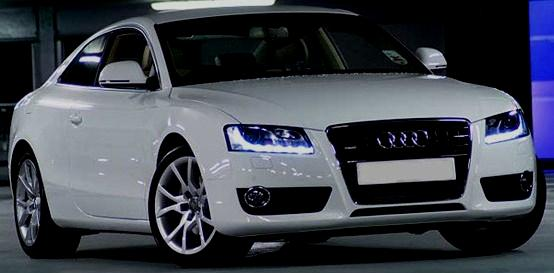Audi: (371, 124, 438, 155)
